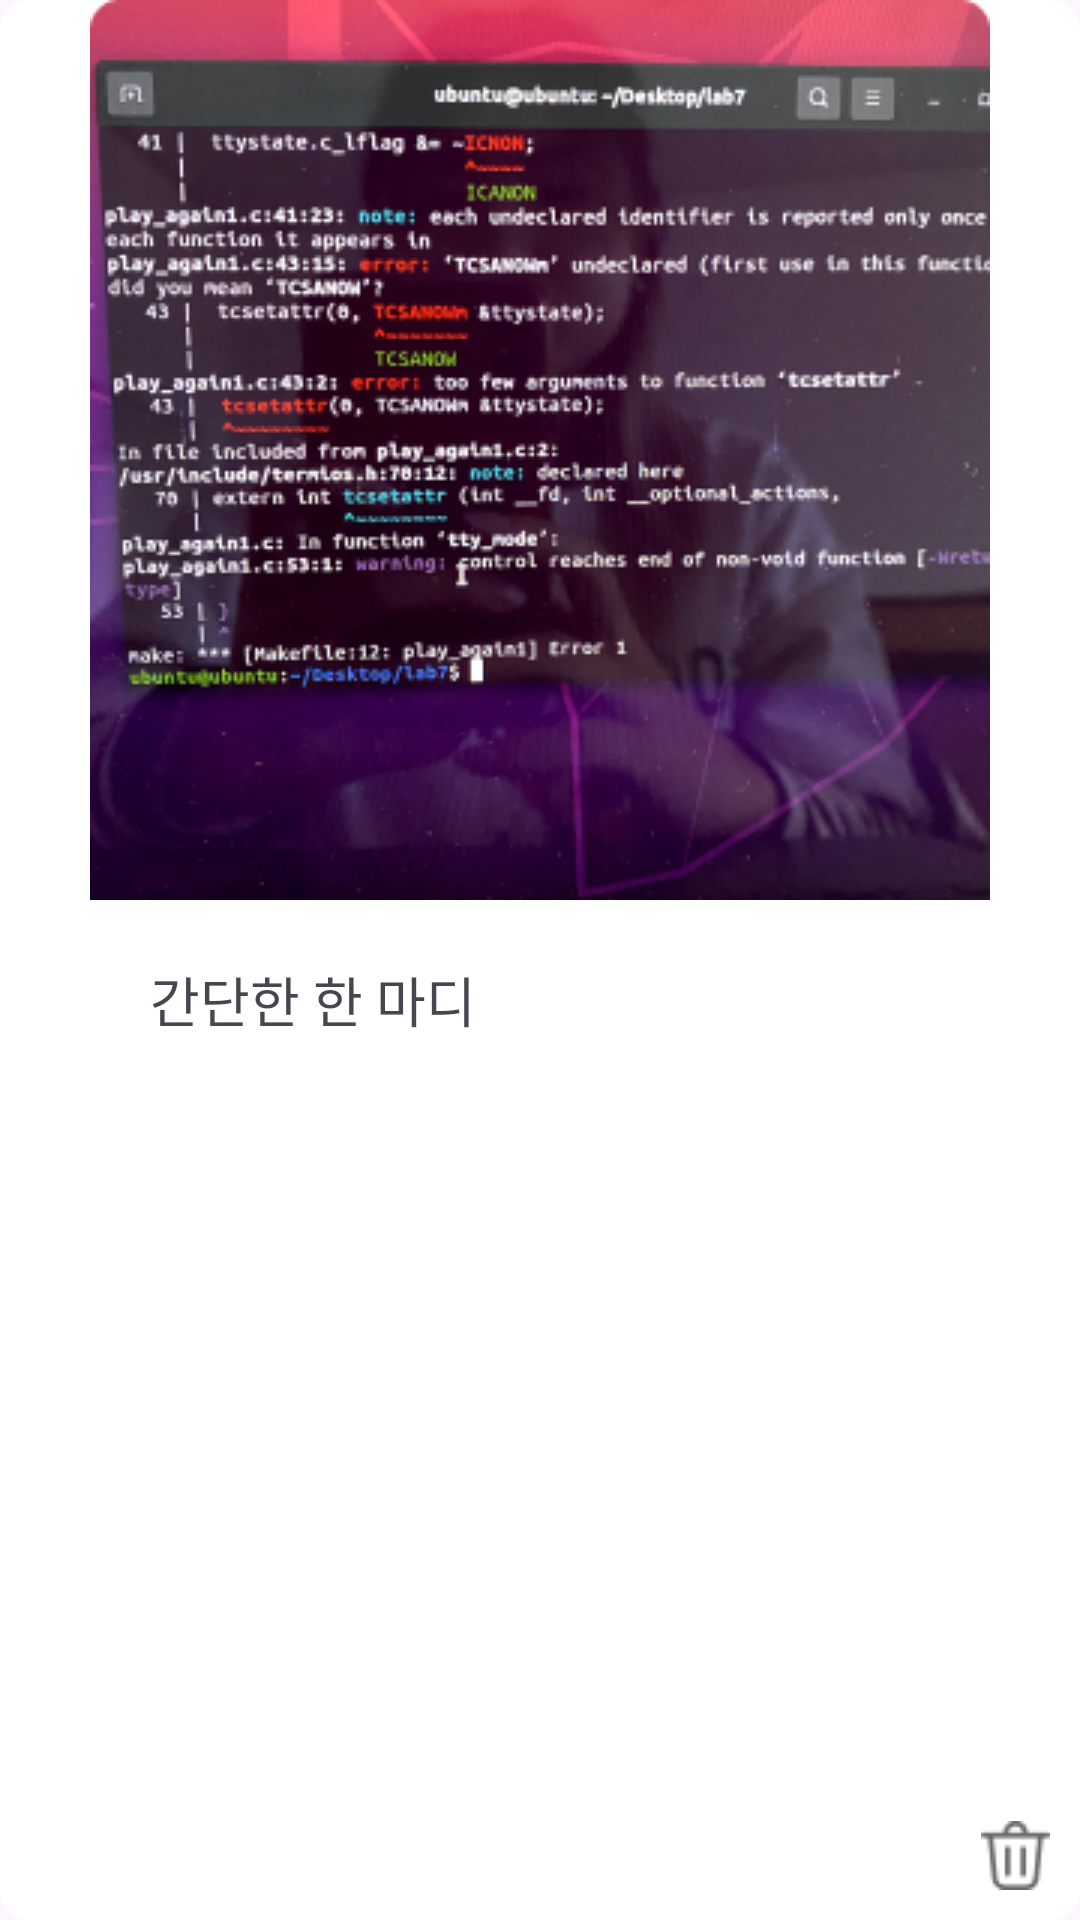

Named icons in this screenshot (1080*1920) and their centers, (x,y):
trashbutton: (1015,1855)
